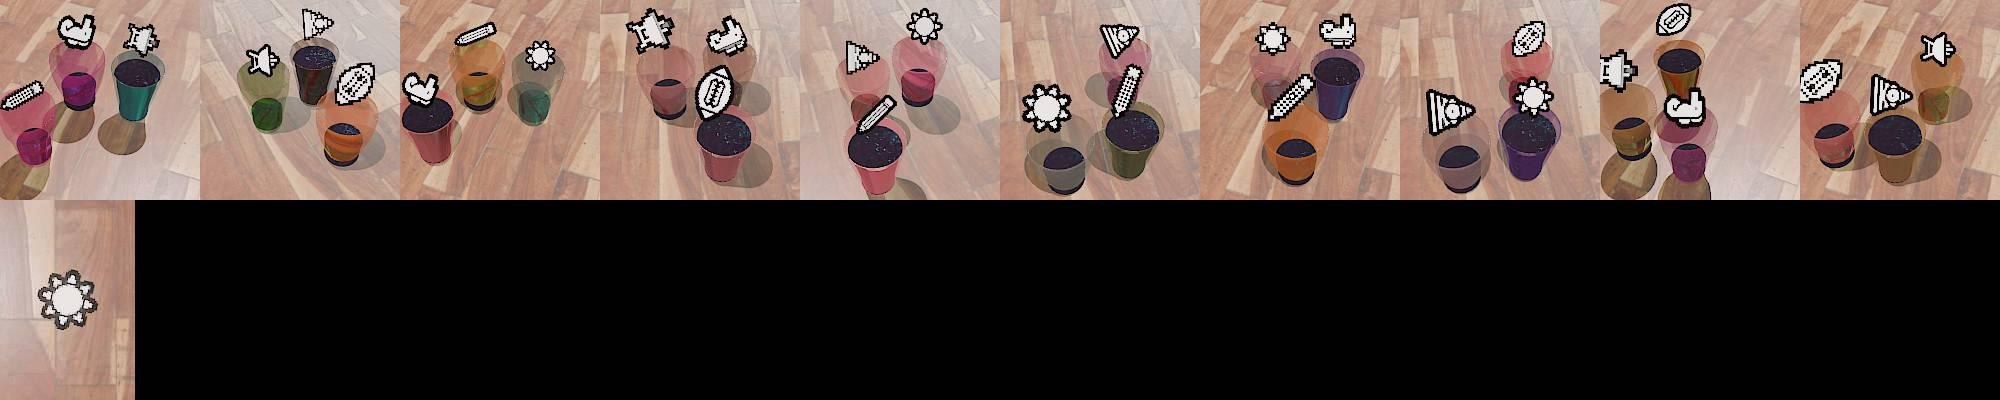icon: (37, 270, 98, 331), (1265, 71, 1320, 127), (1020, 82, 1069, 134), (1427, 88, 1476, 136), (626, 8, 675, 55), (695, 65, 736, 118), (1797, 57, 1843, 103), (1510, 74, 1556, 118), (1869, 73, 1913, 116), (1110, 64, 1144, 120), (333, 62, 376, 106), (853, 93, 897, 136), (1598, 48, 1639, 93), (1662, 85, 1707, 126), (707, 15, 747, 56), (1099, 22, 1142, 60), (1320, 13, 1358, 51), (56, 14, 96, 51), (402, 69, 440, 106), (906, 8, 944, 45), (1918, 31, 1957, 68), (1511, 19, 1547, 59), (0, 80, 46, 111), (1656, 3, 1693, 38), (844, 41, 880, 76), (244, 43, 279, 79), (1255, 20, 1292, 55), (124, 22, 159, 56), (301, 8, 333, 42), (524, 39, 559, 71), (454, 22, 496, 47)
